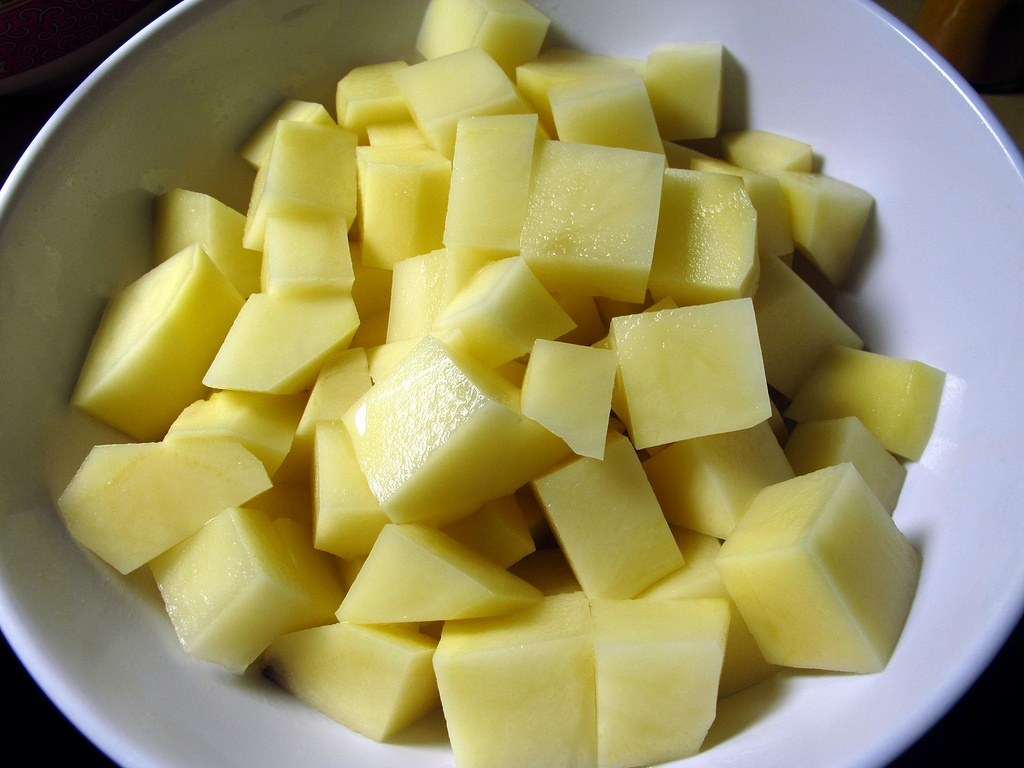boiled potatoes: (100, 80, 880, 715)
